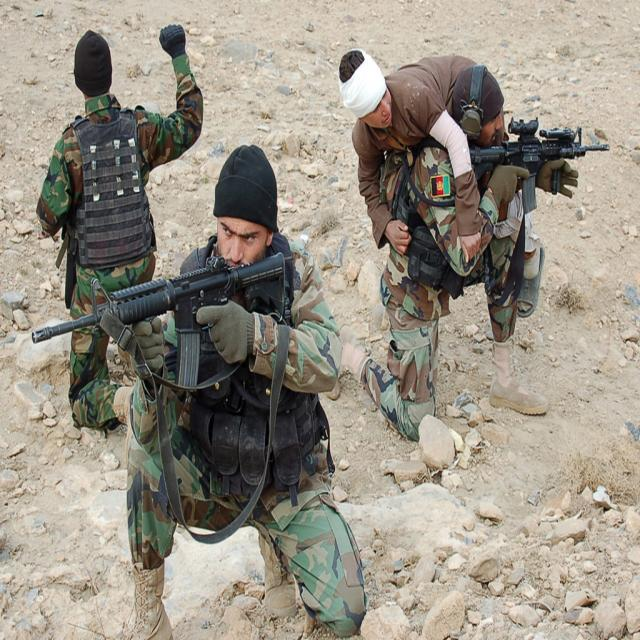weapon: (32, 257, 280, 383), (466, 112, 610, 219)
